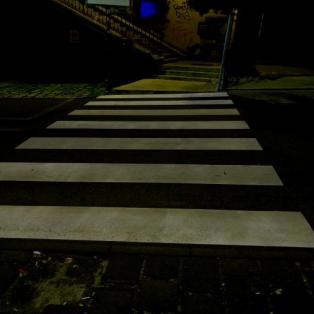Paso de Cebra: (12, 119, 268, 158), (82, 92, 236, 105)
